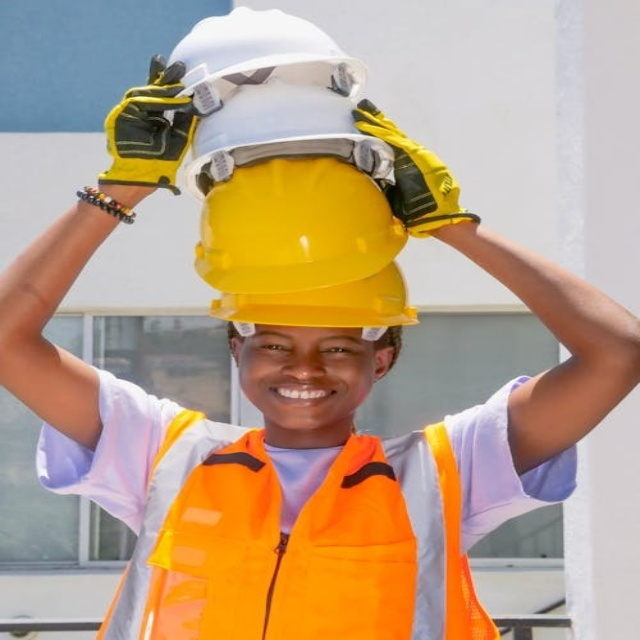Guantes: (353, 100, 480, 234), (98, 53, 206, 190)
Sin_gafas: (252, 328, 357, 361)
Sin_mascara: (261, 375, 339, 420)
